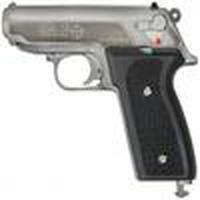gun: (4, 4, 200, 187)
